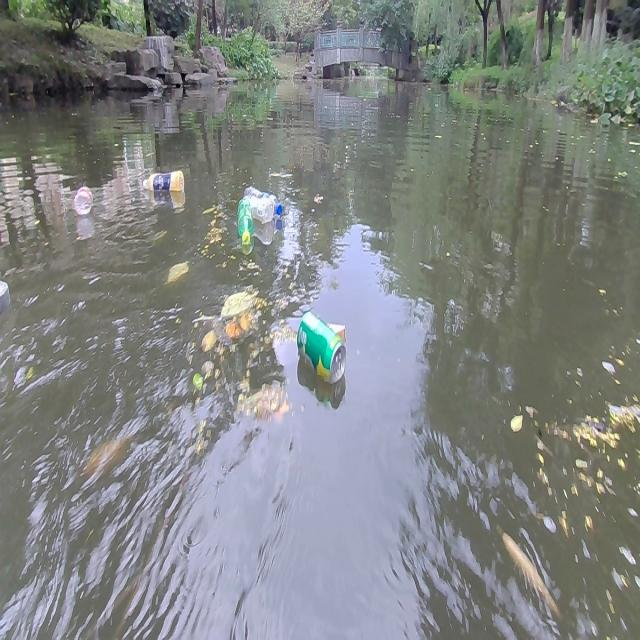bottle: (299, 313, 347, 379), (244, 183, 282, 214), (140, 171, 186, 193), (243, 192, 273, 224), (238, 197, 254, 241), (74, 182, 92, 214)
